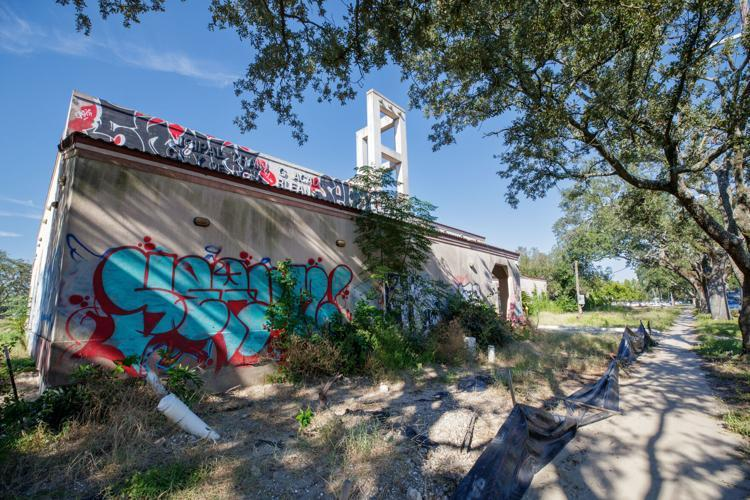graffiti: (67, 232, 382, 378), (67, 93, 278, 185), (383, 276, 472, 334)
